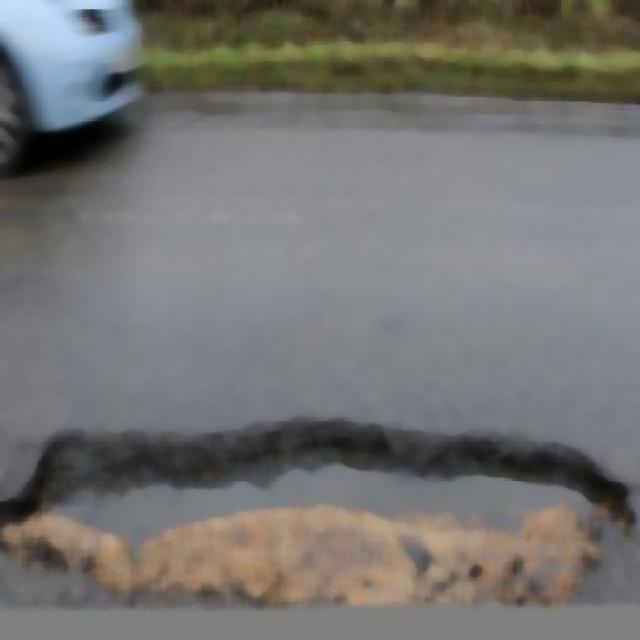Pothole: (0, 420, 634, 606)
